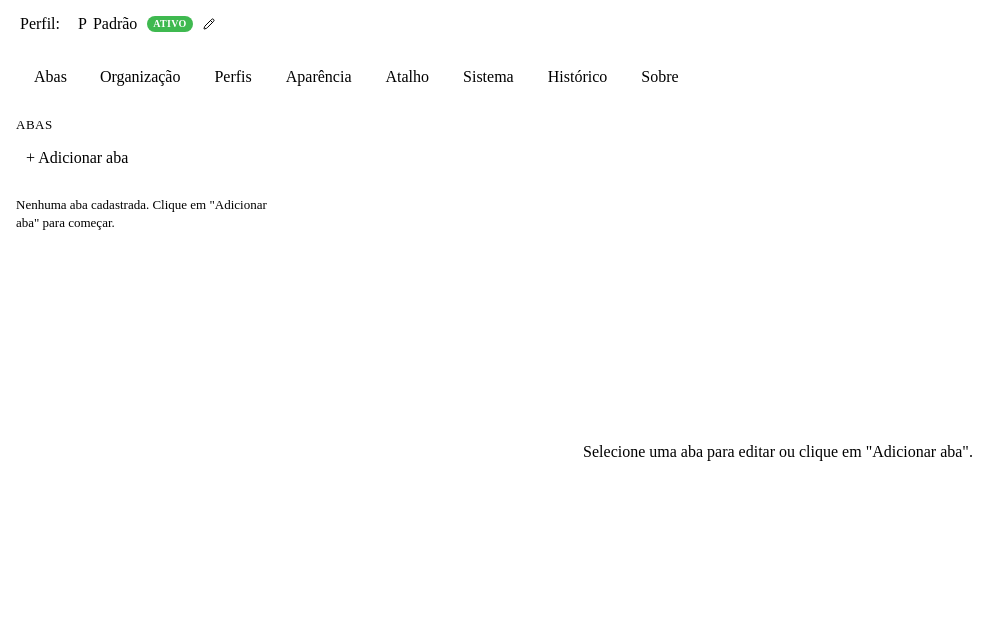
SettingsApp intent routing › renders ShortcutSection when the Atalho tab is clicked
The image size is (989, 624).
Expected: the text "Selecione uma aba para editar ou clique em \"Adicionar aba\"." is shown, [583, 443, 973, 460]
Click the tab with test id "section-shortcut": [407, 77] box [370, 61, 444, 93]
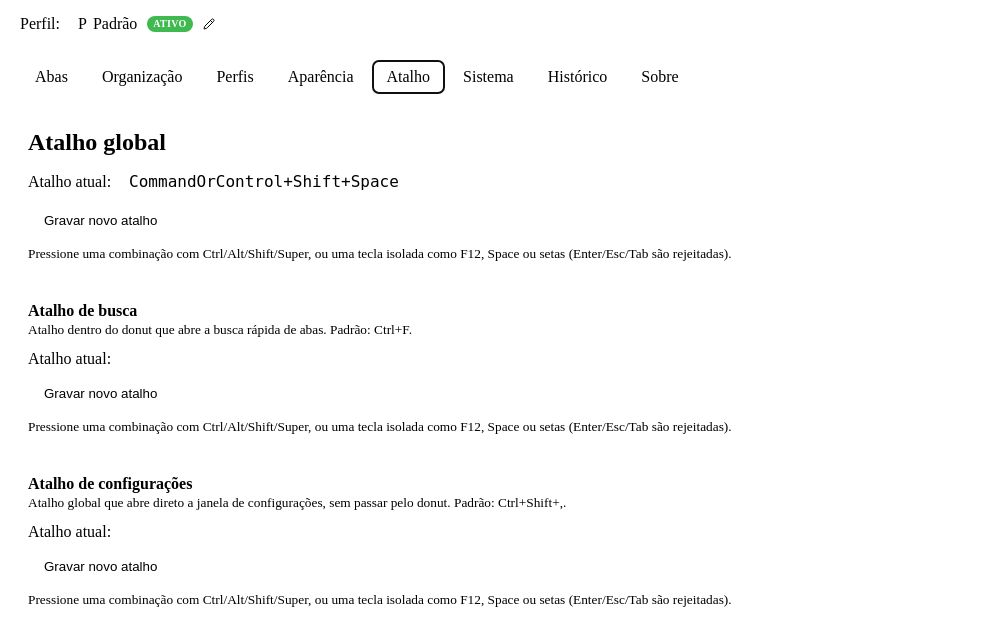
Now the heading "Atalho global" is shown, box [28, 129, 166, 155]
